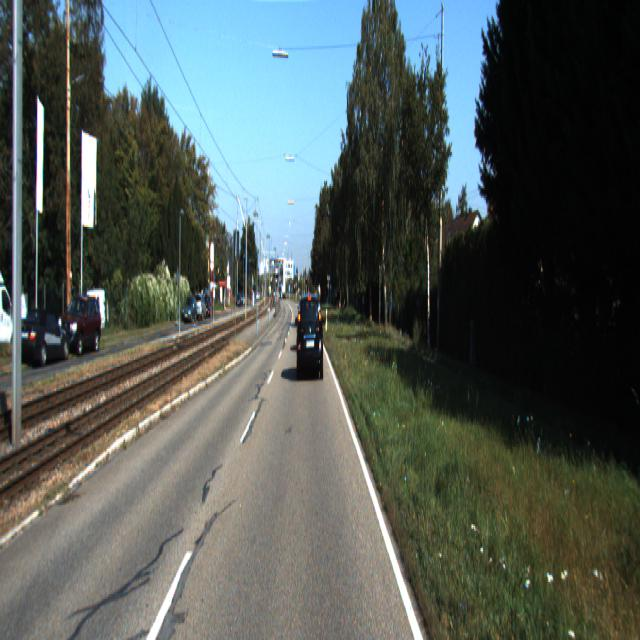Car: (14, 308, 70, 371), (58, 297, 102, 358), (297, 291, 324, 380), (0, 260, 23, 358), (79, 284, 111, 336), (182, 294, 198, 324), (194, 290, 208, 319)
